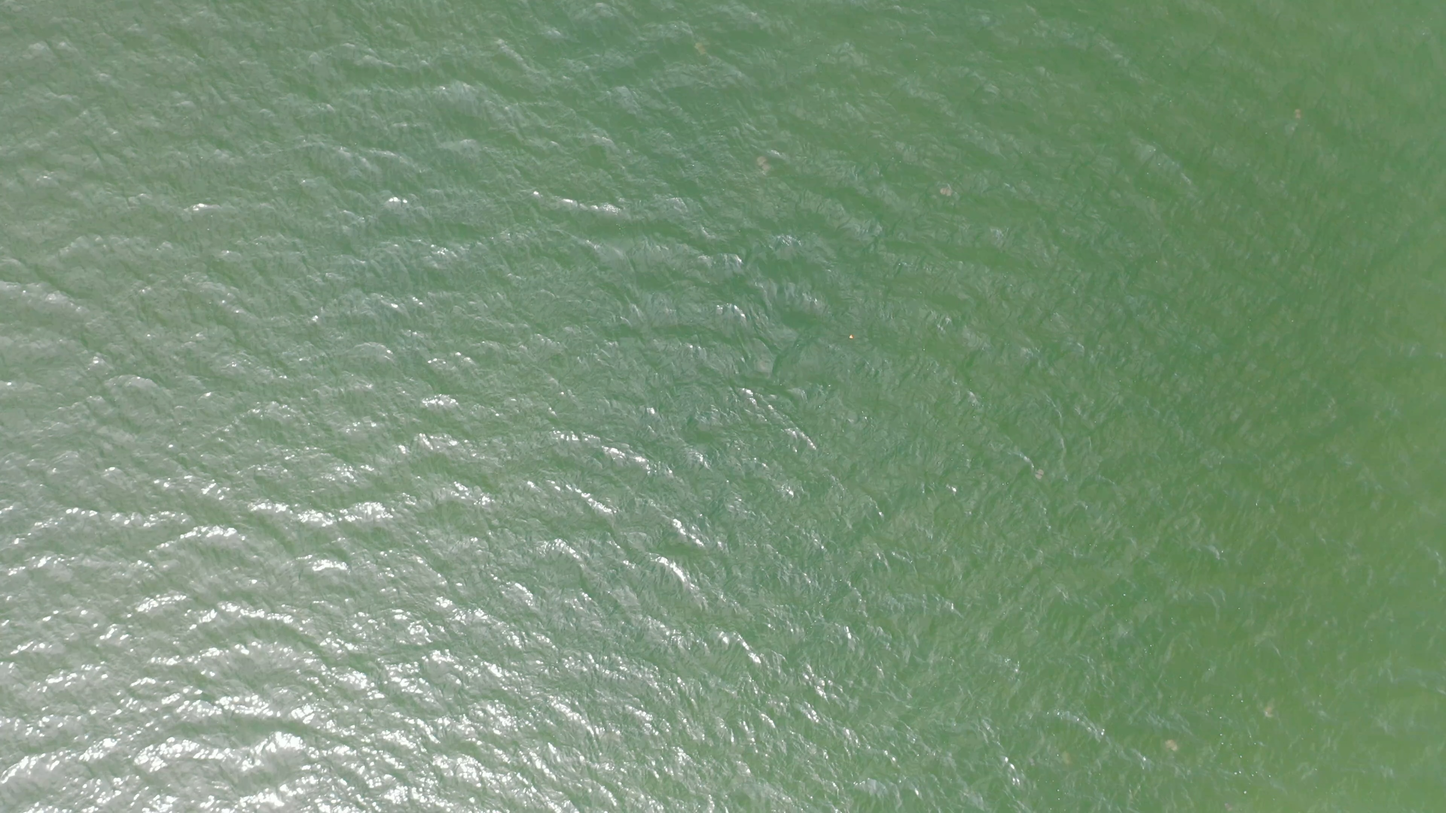meduse: (758, 158, 772, 173), (1165, 740, 1178, 751), (1062, 753, 1073, 766), (940, 188, 954, 198), (1264, 706, 1273, 718), (1035, 469, 1043, 480), (1295, 109, 1302, 119)
